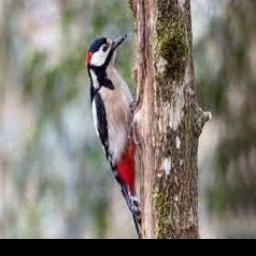Woodpecker: (87, 32, 142, 239)
